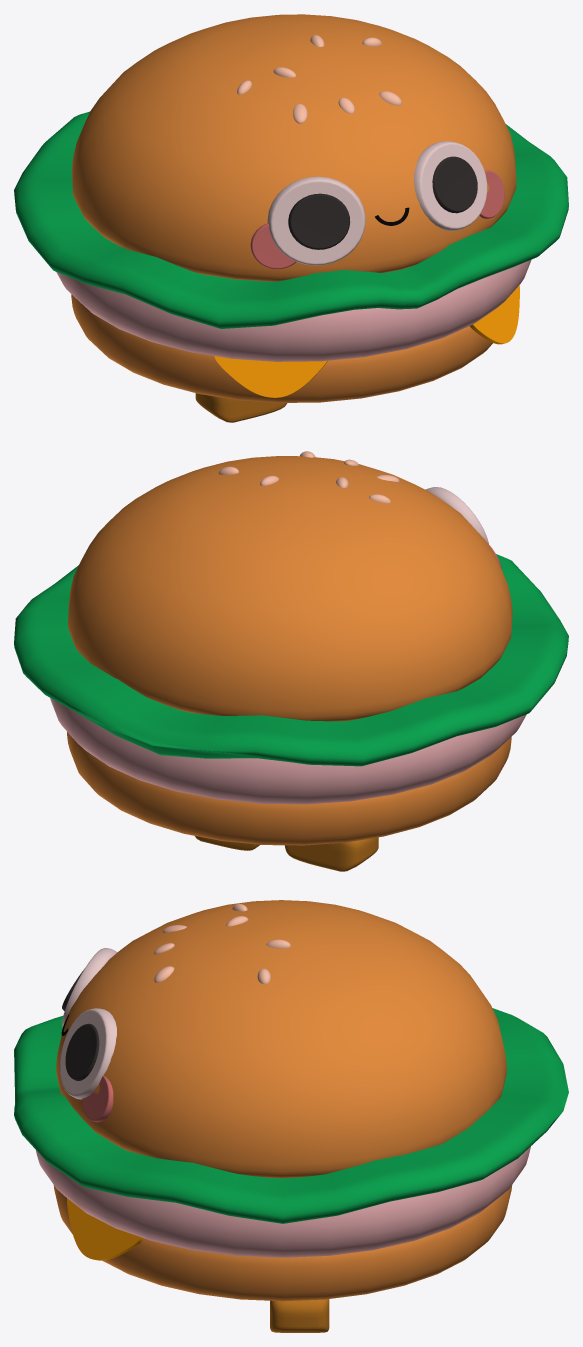
The model's file is elf4.glb.
3 views of the same model, one above another, from view 1: azimuth 30°, elevation 25°; view 2: azimuth 150°, elevation 25°; view 3: azimuth 270°, elevation 25° (orthographic). The views are drawn at different scales.
Parts seen in each view (by area): view 1: Bread_Up, Lettuce, Meat, Bread_Down, Right (×2), White_R, White_L, Black_R, Black_L, Left, Cheek_R, Cheek_L; view 2: Bread_Up, Lettuce, Bread_Down, Meat, Right, White_R; view 3: Bread_Up, Lettuce, Meat, Bread_Down, Left (×2), White_L, Black_L, Cheek_L, White_R.
Part boxes in pixels (x1,y1,x2,y2): Bread_Up: (72,14,516,281); Lettuce: (14,111,568,328); Meat: (56,259,531,361); Bread_Down: (71,294,492,402); Right (×2): (195,355,327,422); White_R: (267,176,365,265); White_L: (414,141,487,231); Black_R: (288,193,350,249); Black_L: (432,156,477,213); Left: (469,285,519,344); Cheek_R: (250,223,296,269); Cheek_L: (479,170,504,218); Bread_Up: (68,456,512,721); Lettuce: (14,554,568,766); Bread_Down: (67,732,511,845); Meat: (50,698,526,804); Right: (284,837,378,871); White_R: (425,487,488,543); Bread_Up: (56,900,506,1178); Lettuce: (14,1008,568,1223); Meat: (36,1146,530,1257); Bread_Down: (53,1185,512,1301); Left (×2): (67,1198,329,1332); White_L: (60,1008,116,1099); Black_L: (65,1023,99,1080); Cheek_L: (82,1075,113,1122); White_R: (62,948,117,1026).
Size of the model in its own units: 3.66 by 2.6 by 3.55.
